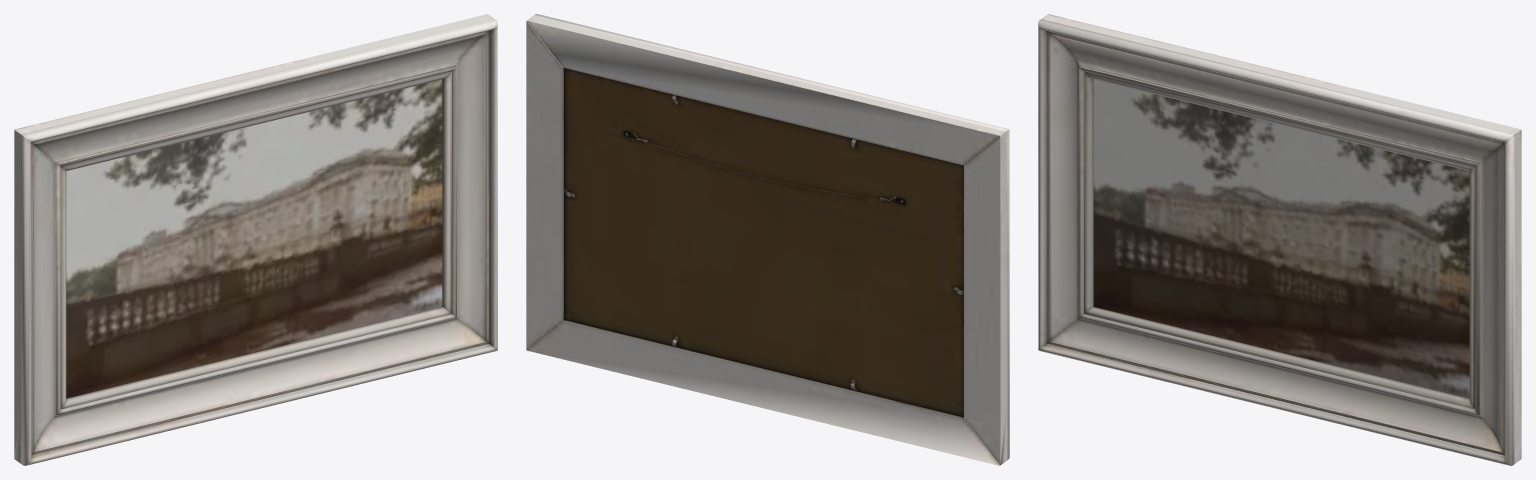
The model's file is wall-art-lightweight-b4f27eeaa8.glb.
3 views of the same model, side by side, from view 1: azimuth 30°, elevation 25°; view 2: azimuth 150°, elevation 25°; view 3: azimuth 330°, elevation 25° (orthographic).
Visible parts, largest first — view 1: hanging_picture_frame_02; view 2: hanging_picture_frame_02; view 3: hanging_picture_frame_02.
Part boxes in pixels (x1=…): hanging_picture_frame_02: x1=14, y1=14, x2=497, y2=465; hanging_picture_frame_02: x1=526, y1=14, x2=1009, y2=465; hanging_picture_frame_02: x1=1038, y1=14, x2=1521, y2=465.
Size of the model in its own units: 0.7518 by 0.5 by 0.0329.
Materials: 3 (2 with a texture image).
